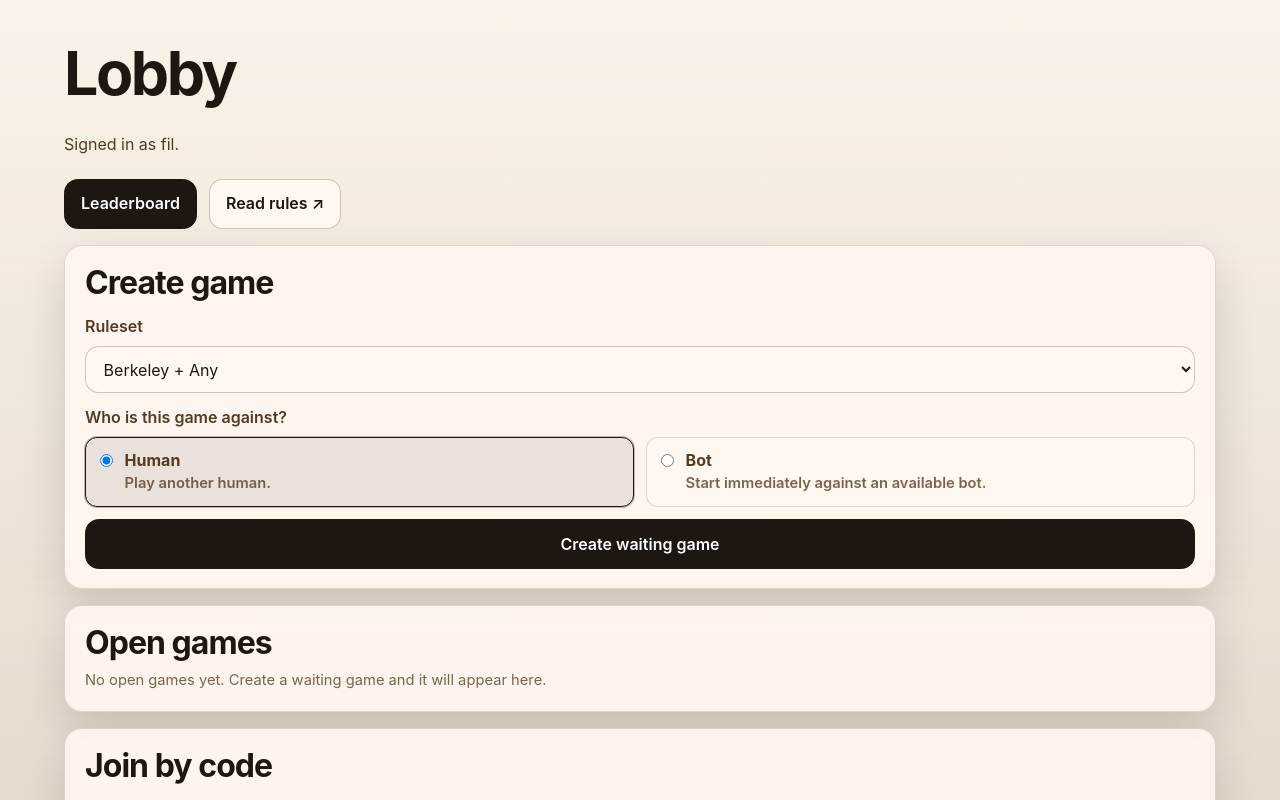
it: LobbyPage › shows_all_ruleset_options_and_supports_new_variant_specific_bots
This screenshot has width=1280, height=800.
Click the radio button labelled "Bot". click: (668, 460)
box: [661, 454, 674, 467]
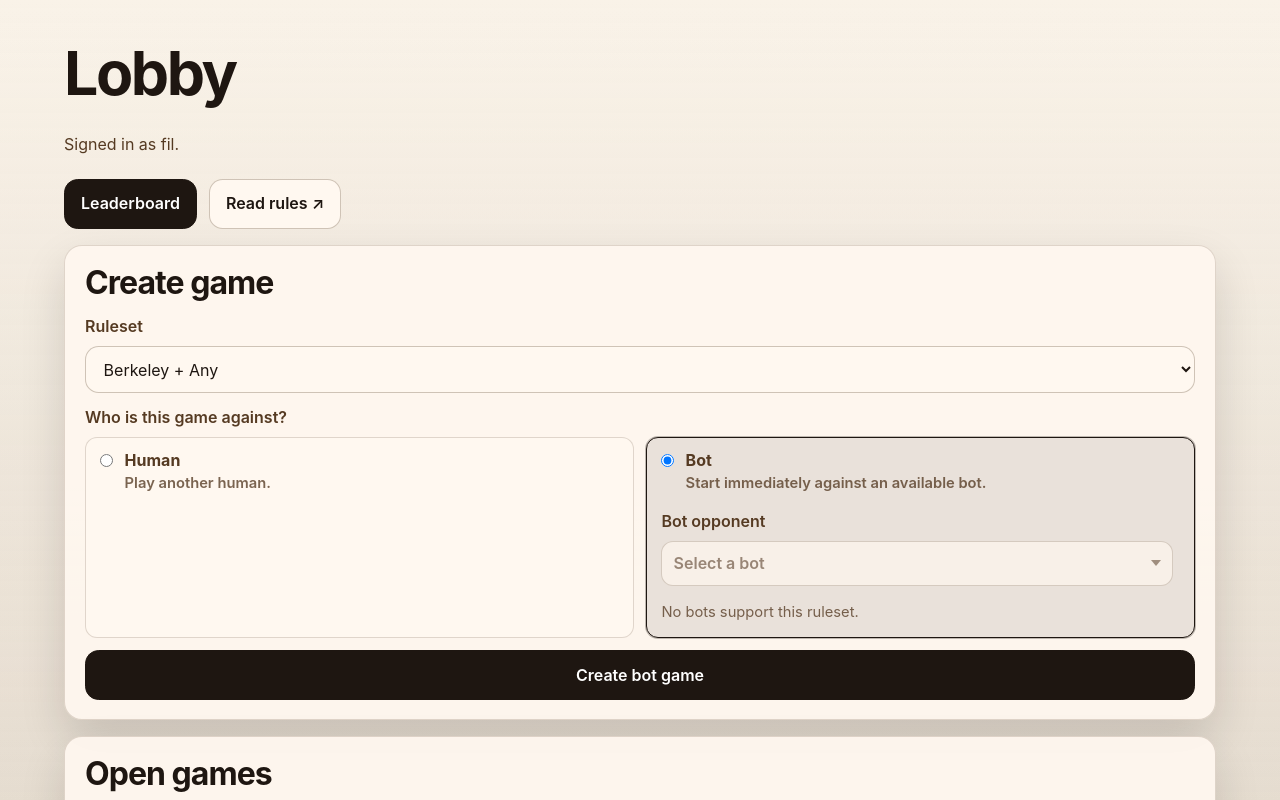
Now the dropdown named "Bot opponent" is disabled, box [661, 541, 1173, 586]
Now the text "No bots support this ruleset." is shown, box [661, 603, 859, 621]
Select "Cincinnati" in the dropdown labelled "Ruleset". click: (640, 370)
box: [85, 346, 1195, 393]
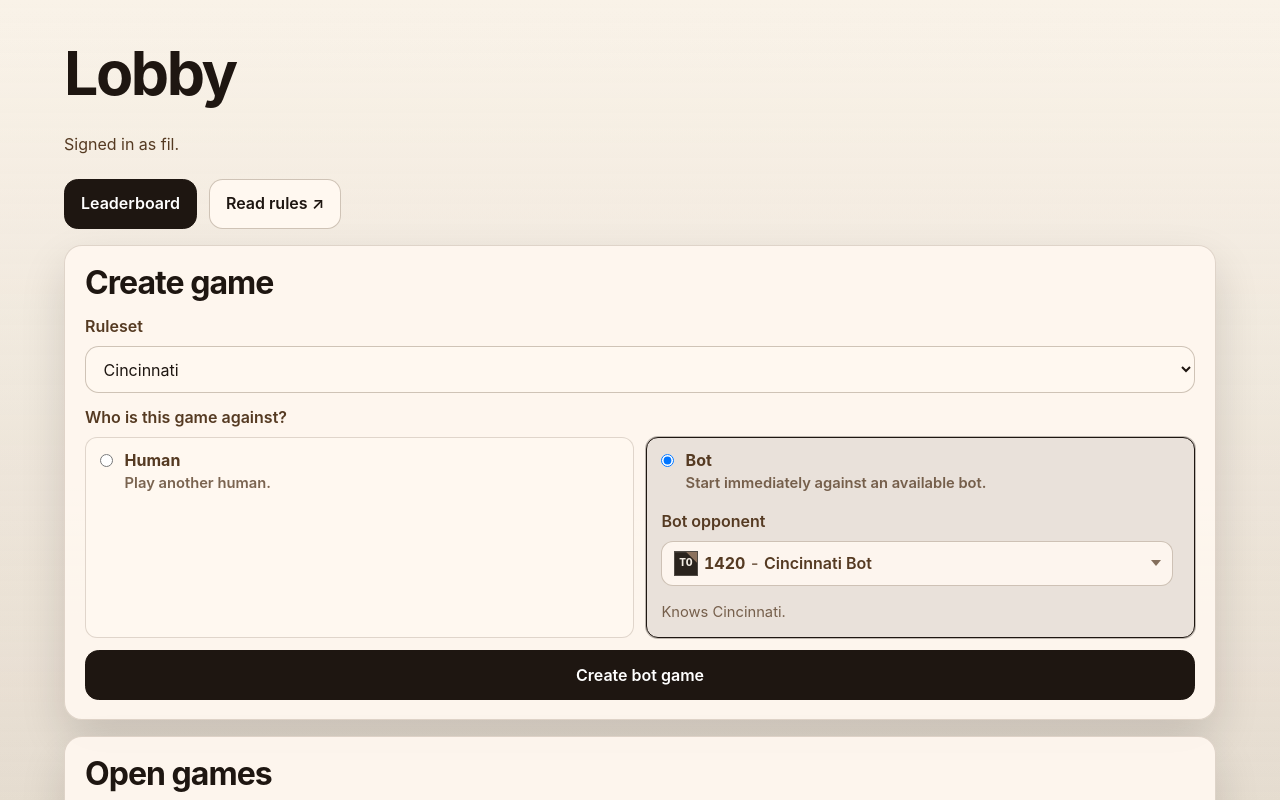
Click the dropdown named "Bot opponent". click: (725, 563)
box: [661, 541, 1173, 586]
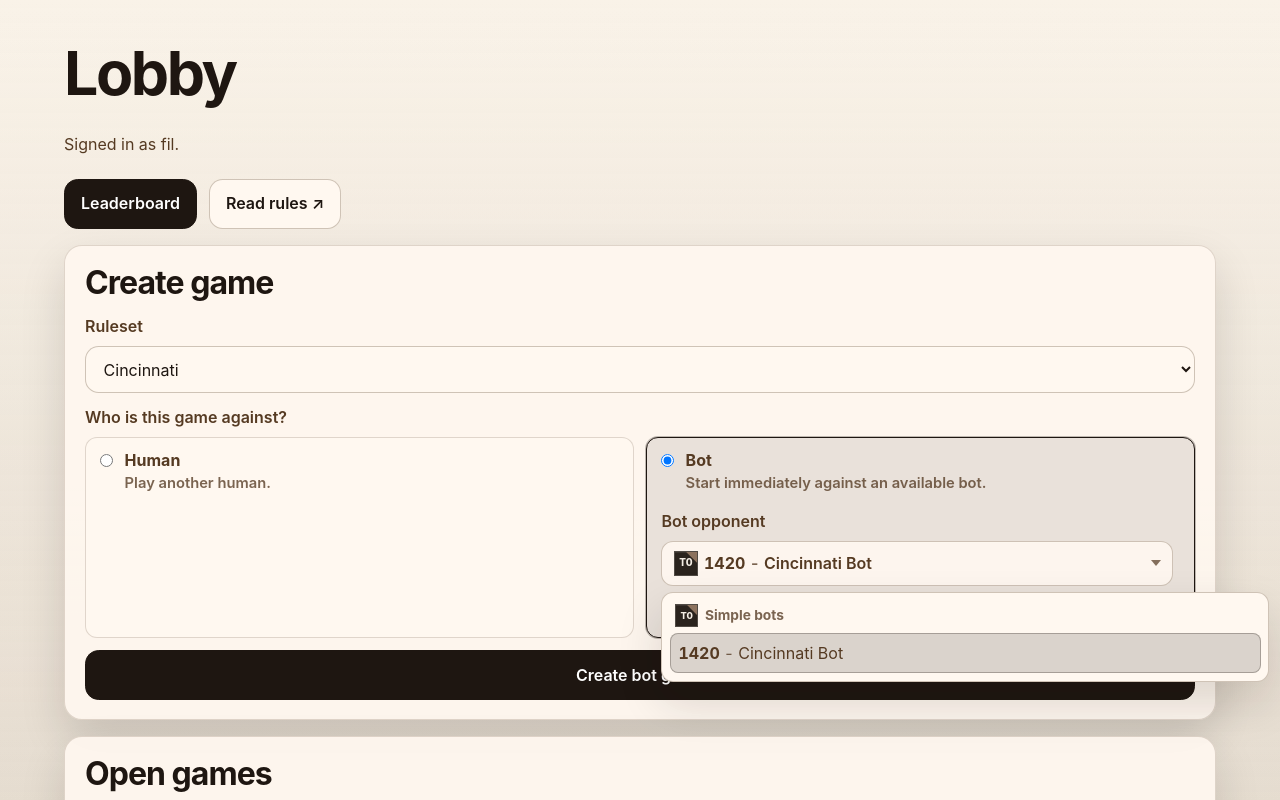
Expected: the option "1510 - Wild 16 Bot" is not shown
Now the option "1420 - Cincinnati Bot" is shown, box [670, 633, 1261, 673]
Select "Wild 16" in the dropdown labelled "Ruleset". click: (640, 370)
box: [85, 346, 1195, 393]
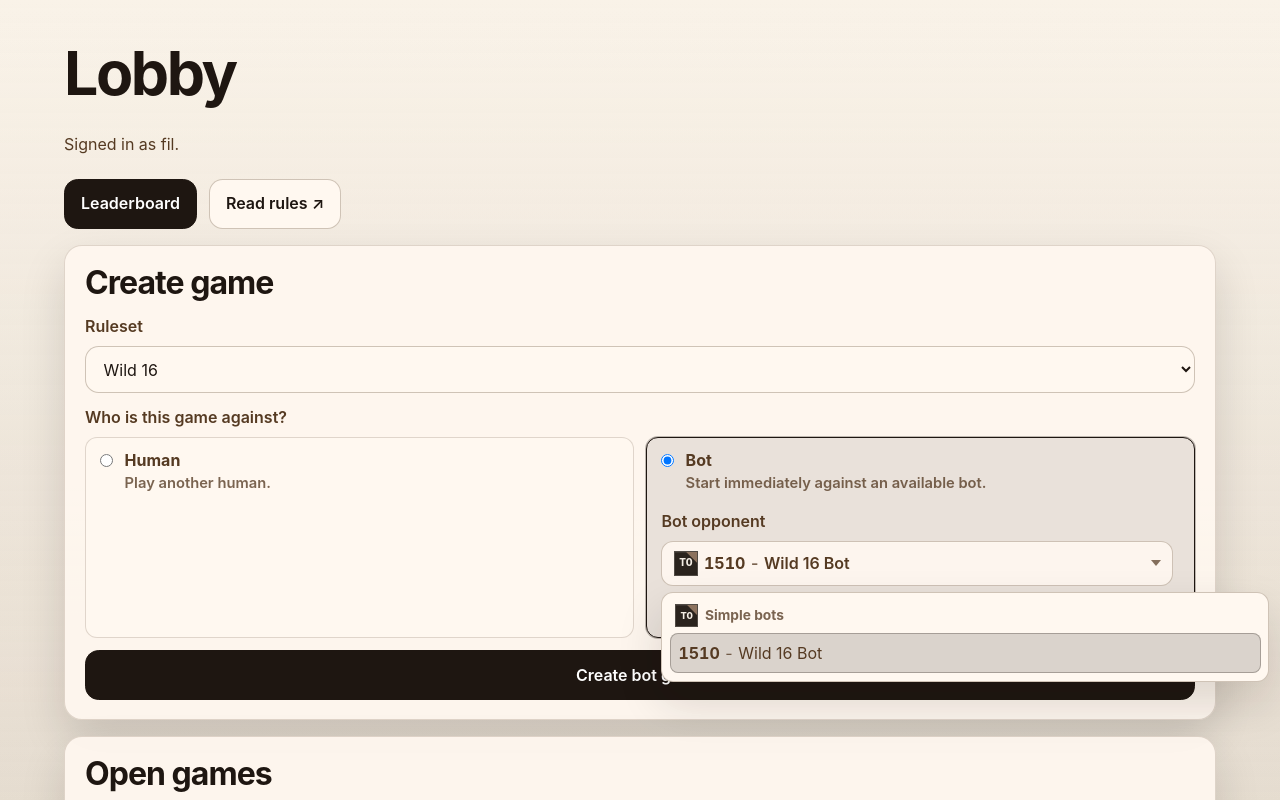
Now the option "1510 - Wild 16 Bot" is shown, box [670, 633, 1261, 673]
Now the dropdown labelled "1420 - Cincinnati Bot" is gone
Select "CrazyKrieg" in the dropdown labelled "Ruleset". click: (640, 370)
box: [85, 346, 1195, 393]
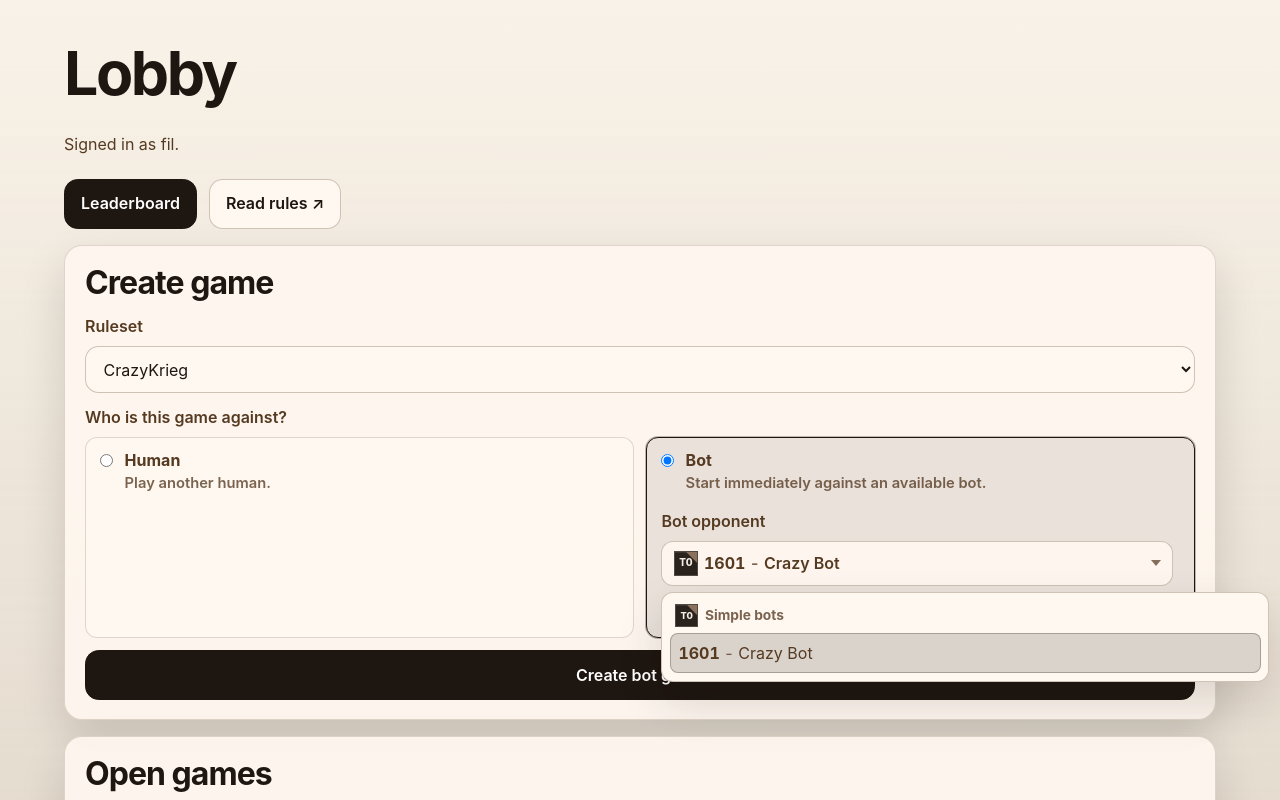
Now the option "1601 - Crazy Bot" is shown, box [670, 633, 1261, 673]
Now the dropdown labelled "1510 - Wild 16 Bot" is gone
